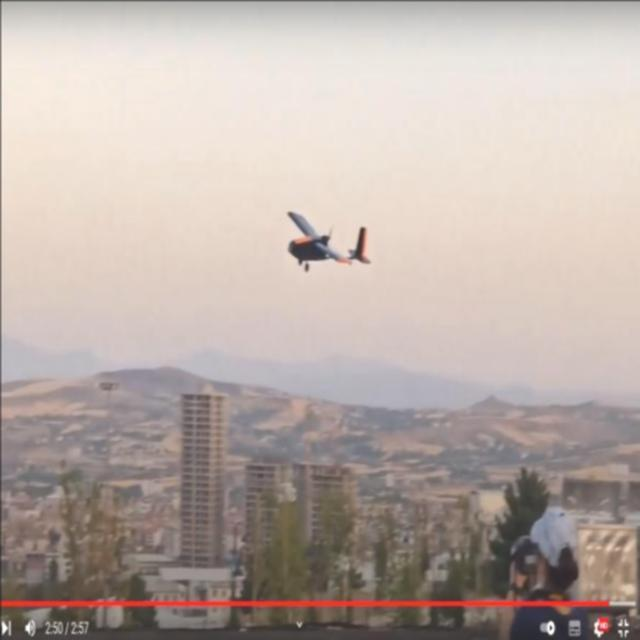plane: (283, 208, 370, 271)
